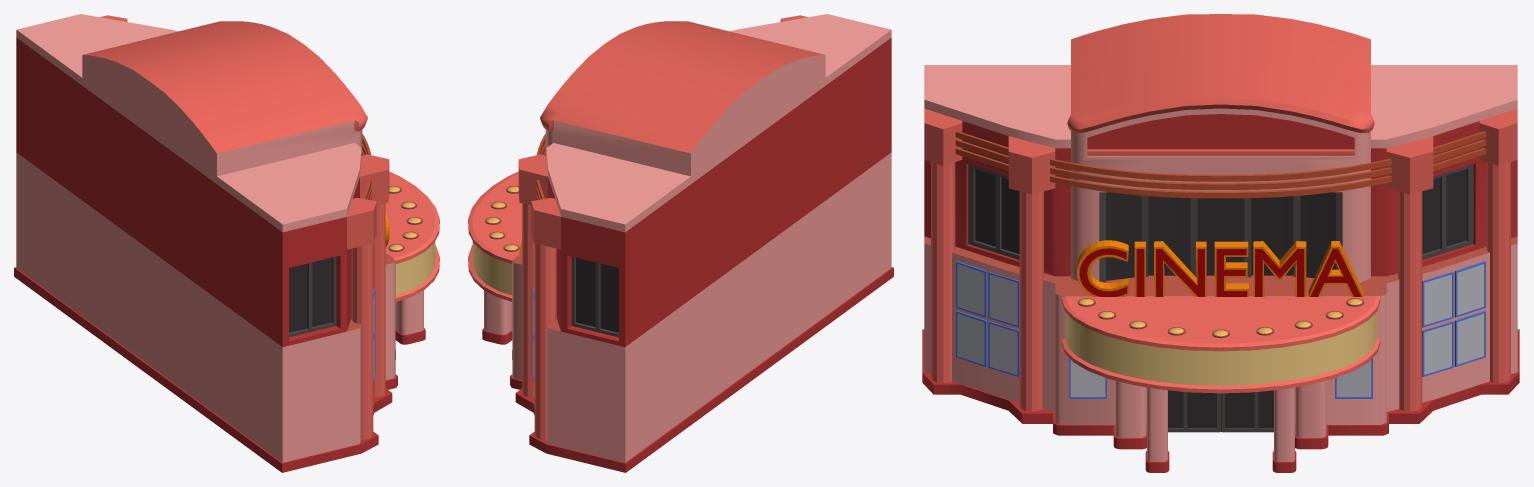
The model's file is Cine.fbx.
3 renders of one model, left to right at view 1: azimuth 30°, elevation 25°; view 2: azimuth 150°, elevation 25°; view 3: azimuth 270°, elevation 25°, orthographic. The views are drawn at different scales.
Parts seen in each view (by area): view 1: Cinema_Cinema_Text.006_Text.001; view 2: Cinema_Cinema_Text.006_Text.001; view 3: Cinema_Cinema_Text.006_Text.001.
Boxes of the visible parts, x1,y1,x2,y2 form: Cinema_Cinema_Text.006_Text.001: [14, 14, 439, 472]; Cinema_Cinema_Text.006_Text.001: [468, 14, 893, 472]; Cinema_Cinema_Text.006_Text.001: [922, 14, 1519, 472].
Bounding box in the file's own units: 532 × 557 × 923.
1 material, 1 textured.
